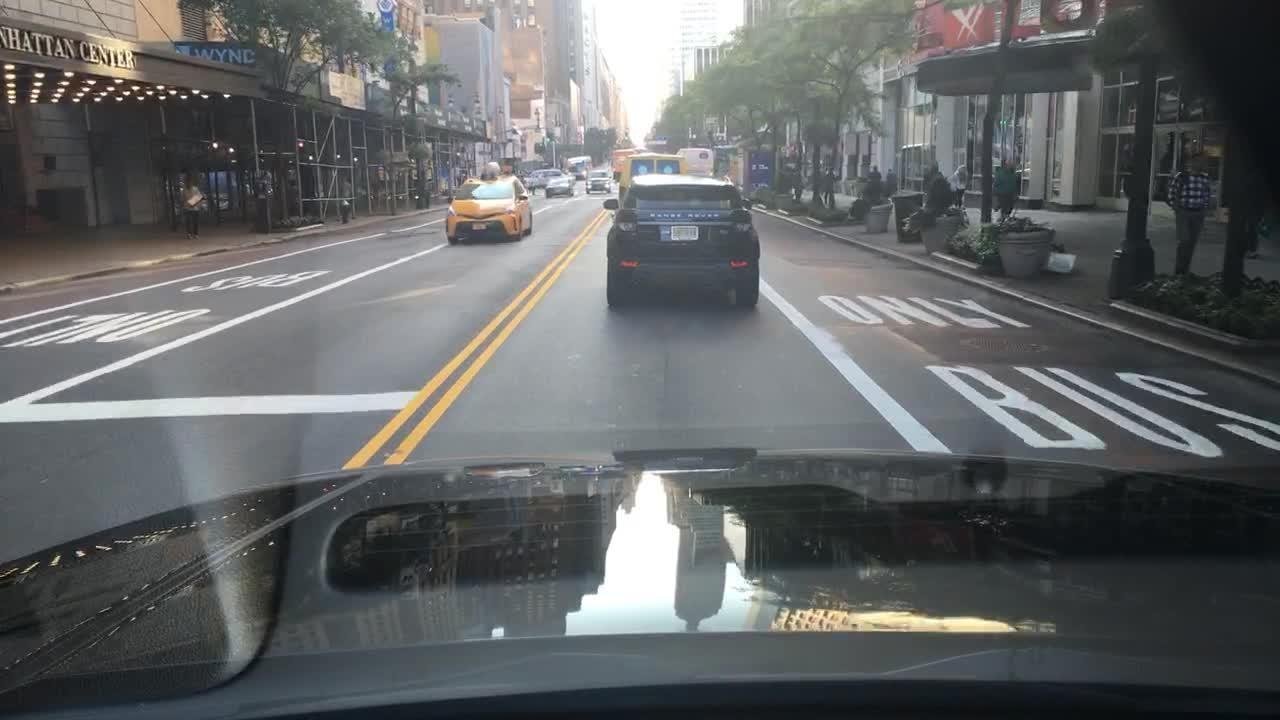range rover: (640, 205, 727, 222)
